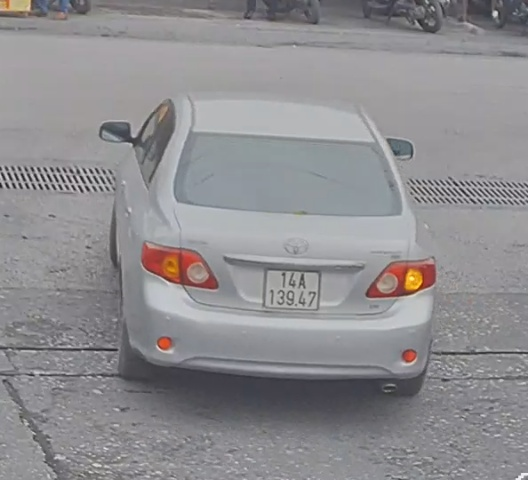vehicle plate: (261, 265, 322, 310)
